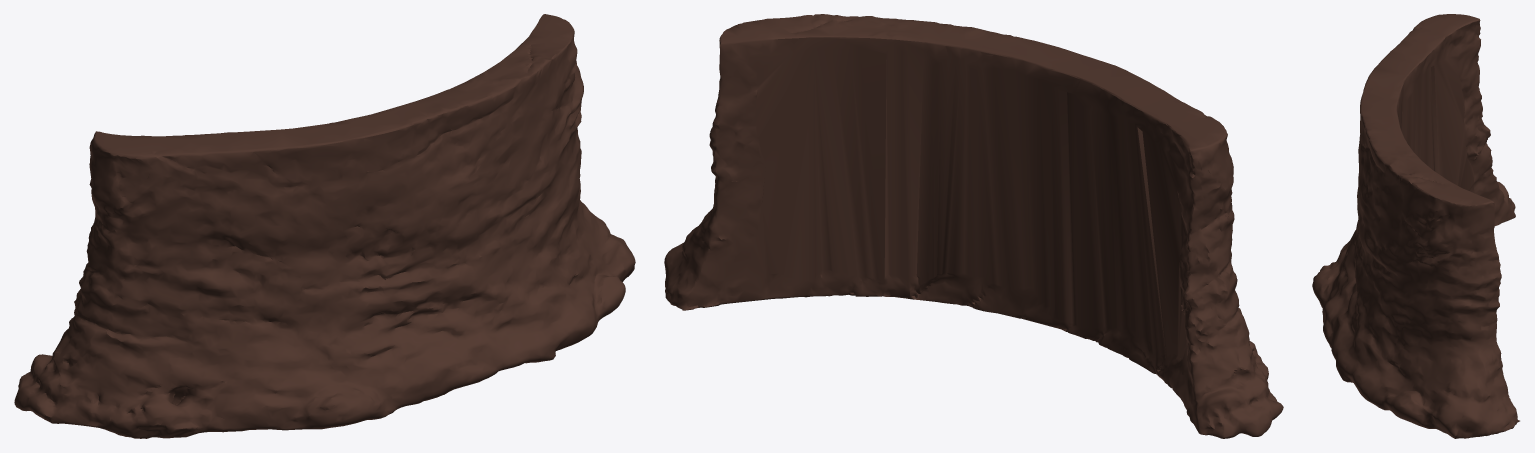
File: Wall_30mnIn.fbx
3 renders of one model, left to right at view 1: azimuth 30°, elevation 25°; view 2: azimuth 150°, elevation 25°; view 3: azimuth 270°, elevation 25°, orthographic. The views are drawn at different scales.
Parts seen in each view (by area): view 1: Wall_30mnIn; view 2: Wall_30mnIn; view 3: Wall_30mnIn.
Boxes of the visible parts, x1,y1,x2,y2 form: Wall_30mnIn: [14, 14, 635, 438]; Wall_30mnIn: [664, 14, 1283, 438]; Wall_30mnIn: [1312, 14, 1519, 438].
Size of what is drawn, in the model's own units: 3659 by 1576 by 1339.
Materials: 1 (1 with a texture image).
